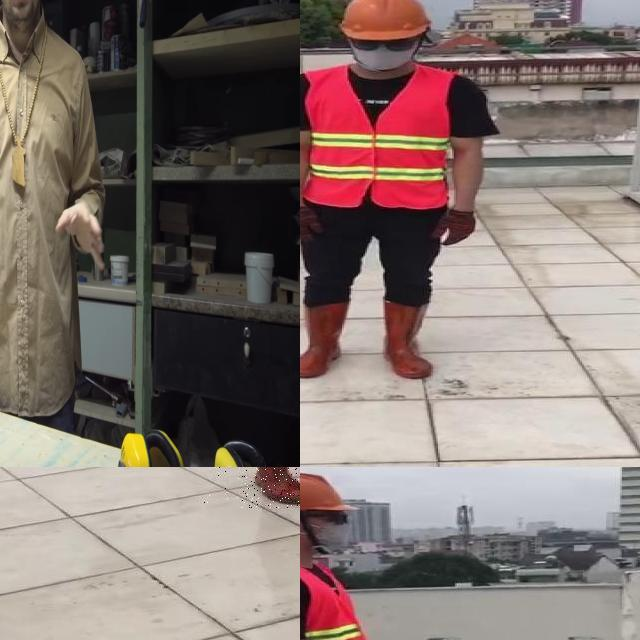Ear-protection: (119, 419, 190, 467), (208, 435, 268, 467)
boots: (383, 299, 436, 380), (300, 302, 352, 380), (242, 467, 300, 508)
head_helmet: (331, 0, 429, 42), (300, 471, 354, 514)
person: (300, 0, 497, 380), (0, 0, 105, 430), (300, 467, 407, 640)
vest: (304, 69, 452, 208), (300, 556, 382, 640)
